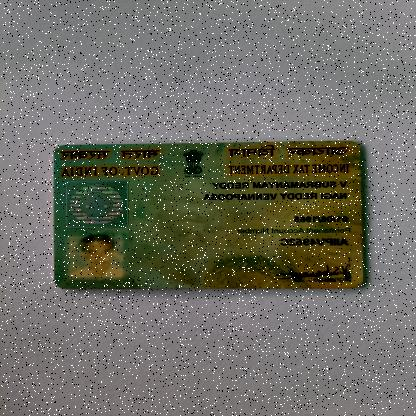pan_card: (48, 134, 366, 297)
